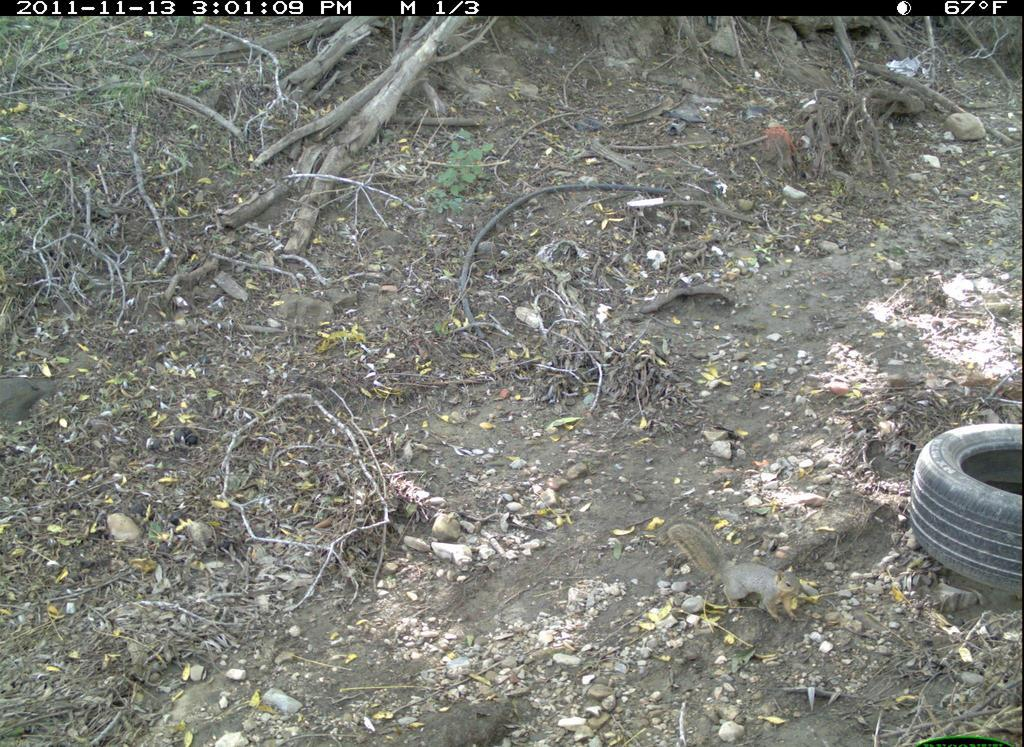squirrel: (661, 515, 822, 637)
